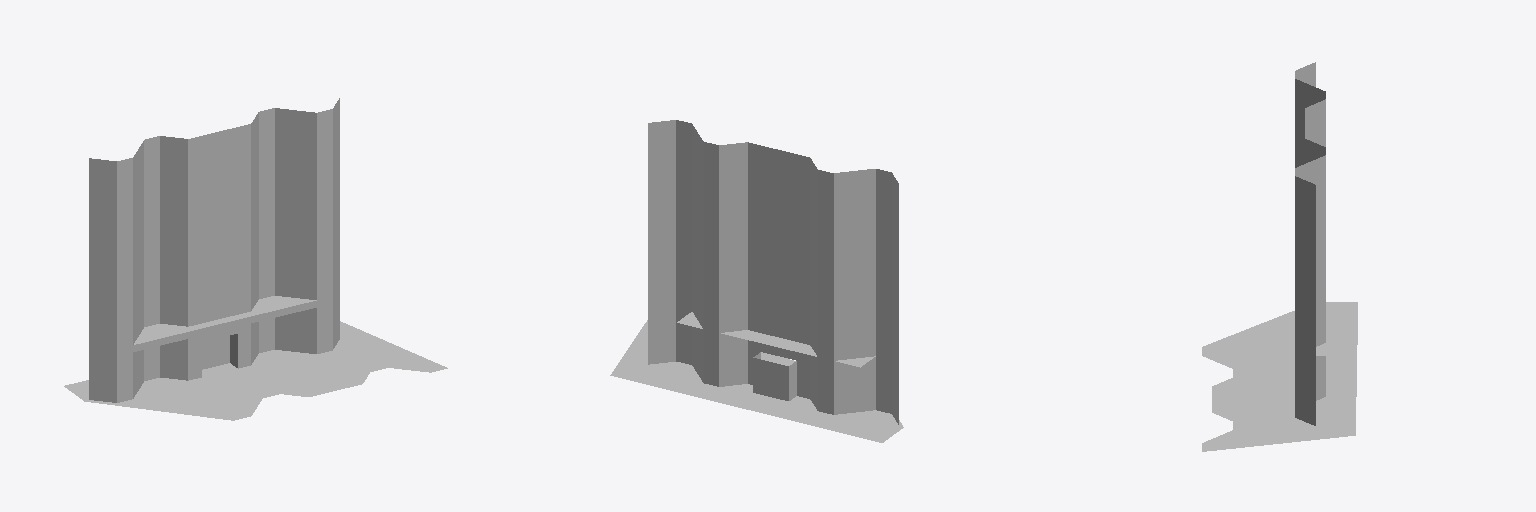
Rendered from Battle Tower.obj.
The picture shows the model from 3 angles: view 1: azimuth 30°, elevation 25°; view 2: azimuth 150°, elevation 25°; view 3: azimuth 270°, elevation 25°; orthographic projection.
Parts seen in each view (by area): view 1: polygon1, polygon3, polygon0, polygon2; view 2: polygon1, polygon3, polygon0, polygon2; view 3: polygon0, polygon1, polygon2.
Part boxes in pixels (left/top/right/bottom): polygon1: left=89, top=98, right=339, bottom=348; polygon3: left=117, top=108, right=332, bottom=402; polygon0: left=64, top=321, right=447, bottom=420; polygon2: left=89, top=286, right=339, bottom=402; polygon1: left=648, top=120, right=898, bottom=370; polygon3: left=676, top=120, right=891, bottom=414; polygon0: left=610, top=320, right=903, bottom=442; polygon2: left=648, top=308, right=898, bottom=424; polygon0: left=1202, top=302, right=1357, bottom=451; polygon1: left=1295, top=62, right=1325, bottom=371; polygon2: left=1295, top=356, right=1325, bottom=425.
Bounding box in the file's own units: 274 × 206 × 121.